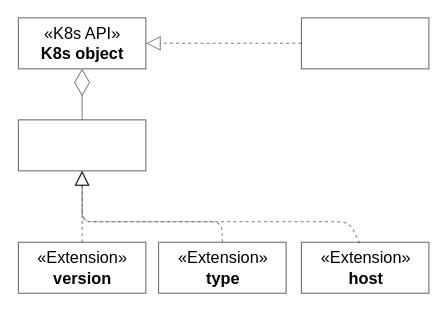
The diagram is 447 pixels wide and 311 high, and some of its shapes have lost their labels. The shapes that lost their labels are listed below. From the top down, each one's centre as x and y in pixels, then its label:
At (364,43): "«K8s API» Deployment".
At (81,145): "«K8s API» annotation".
